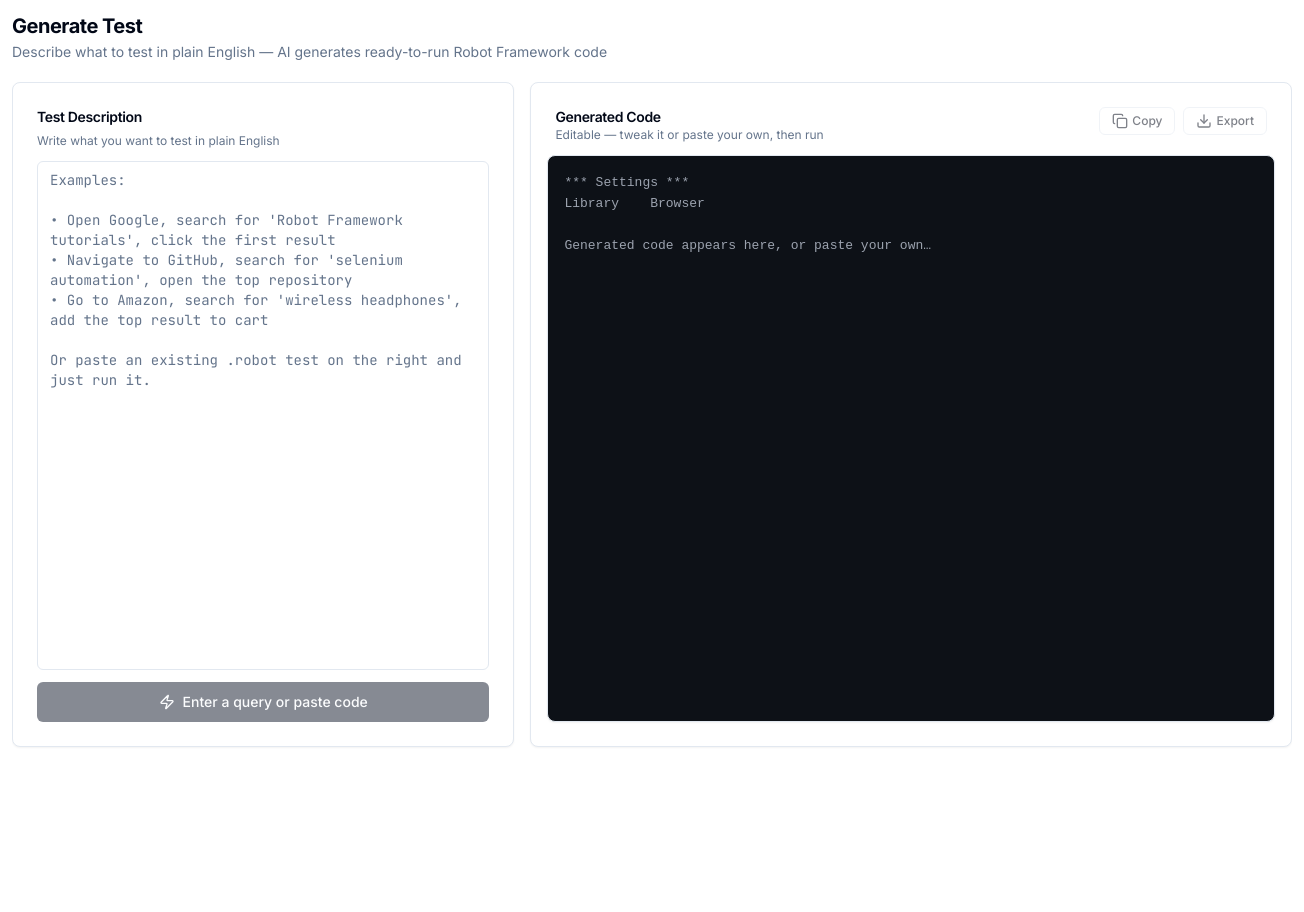
Test: GeneratePage — the run button’s icon and label › shows a spinner (no icon glyph) and "Generating… N%" while a generation is in flight
The width and height of the screenshot is (1304, 912).
Replace the text in the text box with placeholder "Open Google, search for" with "open flipkart and search for shoes" at (263, 416), box [37, 161, 489, 670]
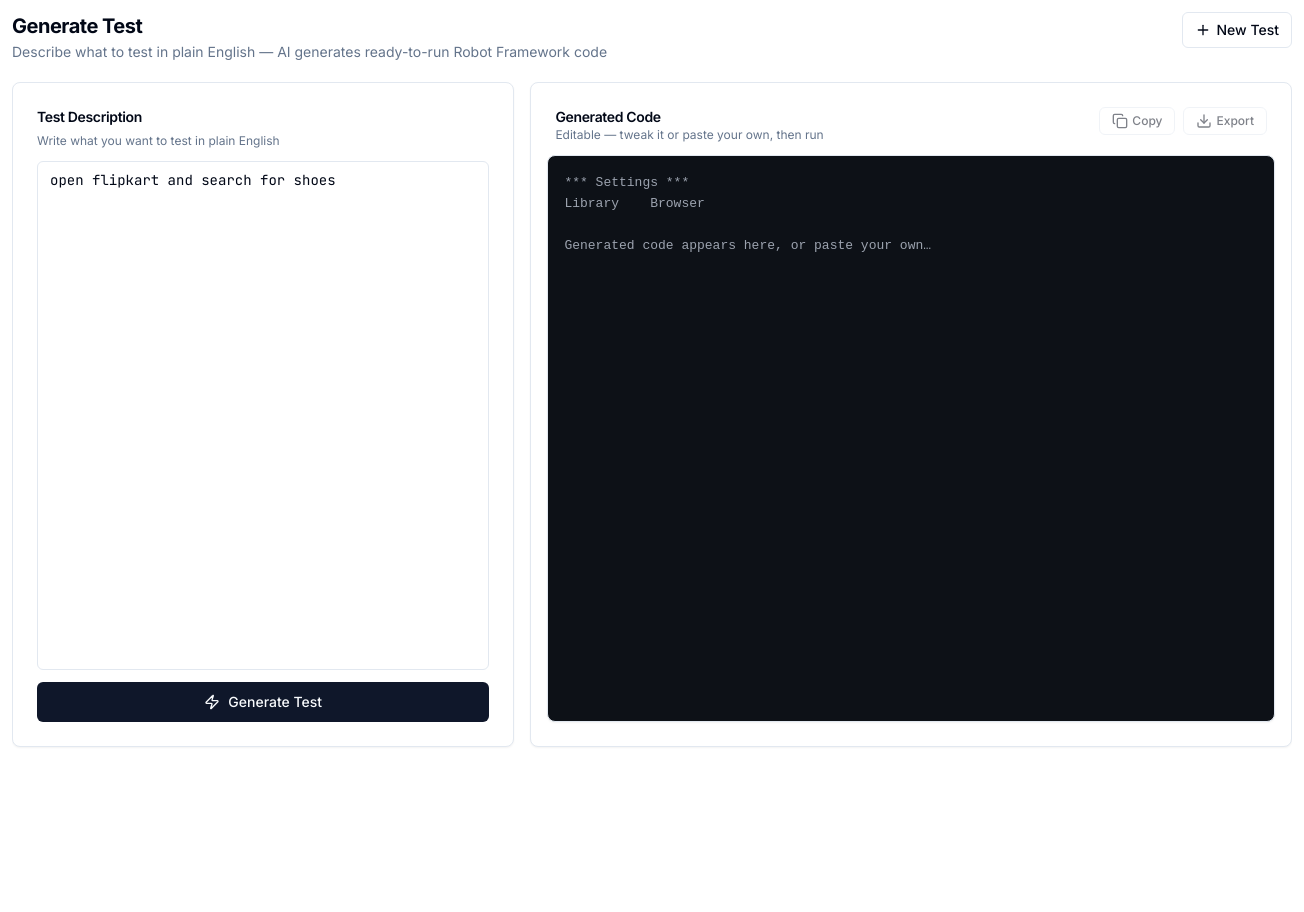
Click the button "Generate Test" at (263, 702), box [37, 682, 489, 722]
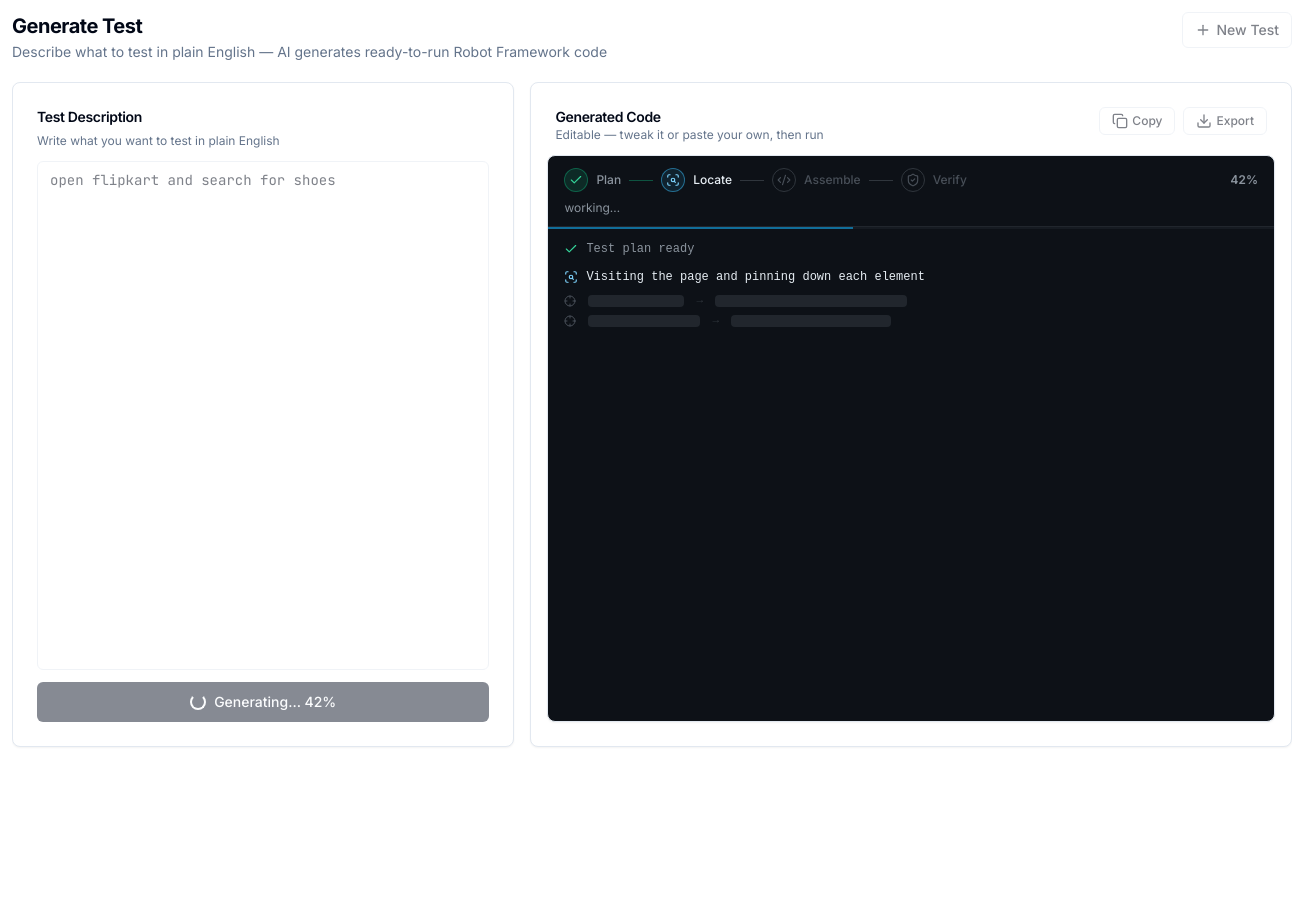
Check: the button "Generating… 42%" is disabled, box [37, 682, 489, 722]
